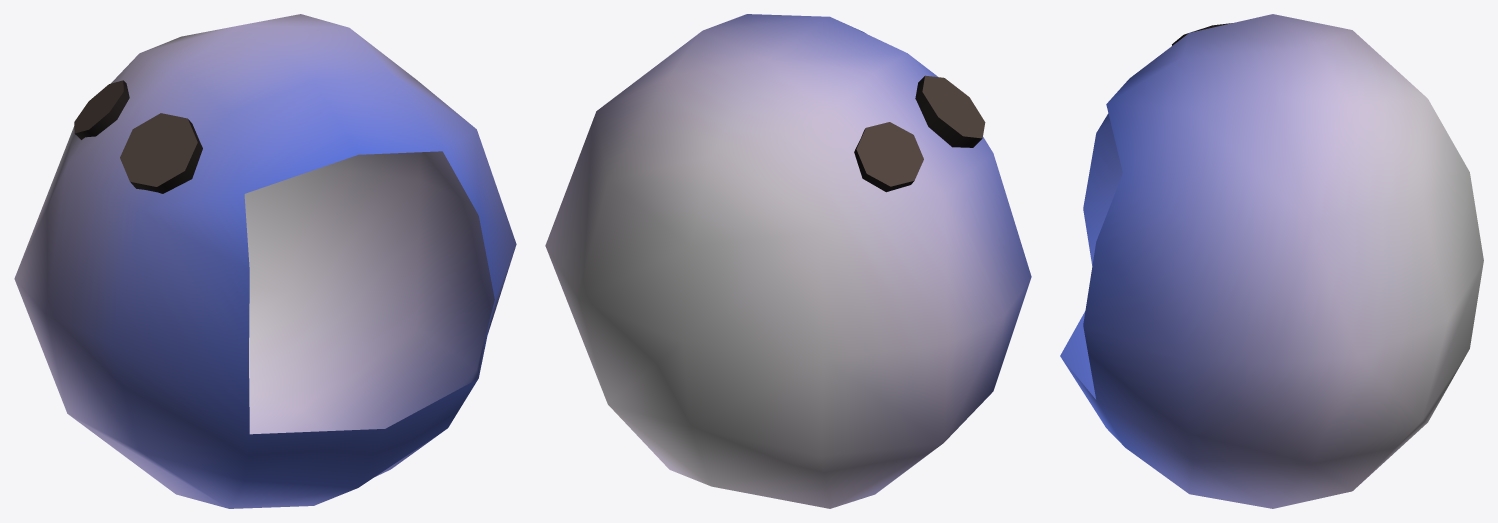
The model's file is IglooSnowmanTorso.fbx.
3 views of the same model, side by side, from view 1: azimuth 30°, elevation 25°; view 2: azimuth 150°, elevation 25°; view 3: azimuth 270°, elevation 25° (orthographic). The views are drawn at different scales.
Parts seen in each view (by area): view 1: IglooSnowmanTorso; view 2: IglooSnowmanTorso; view 3: IglooSnowmanTorso.
Boxes of the visible parts, x1=… form: IglooSnowmanTorso: x1=14, y1=14, x2=516, y2=508; IglooSnowmanTorso: x1=545, y1=14, x2=1031, y2=508; IglooSnowmanTorso: x1=1060, y1=14, x2=1483, y2=508.
Size of the model in its own units: 35.95 by 34.74 by 31.22.
